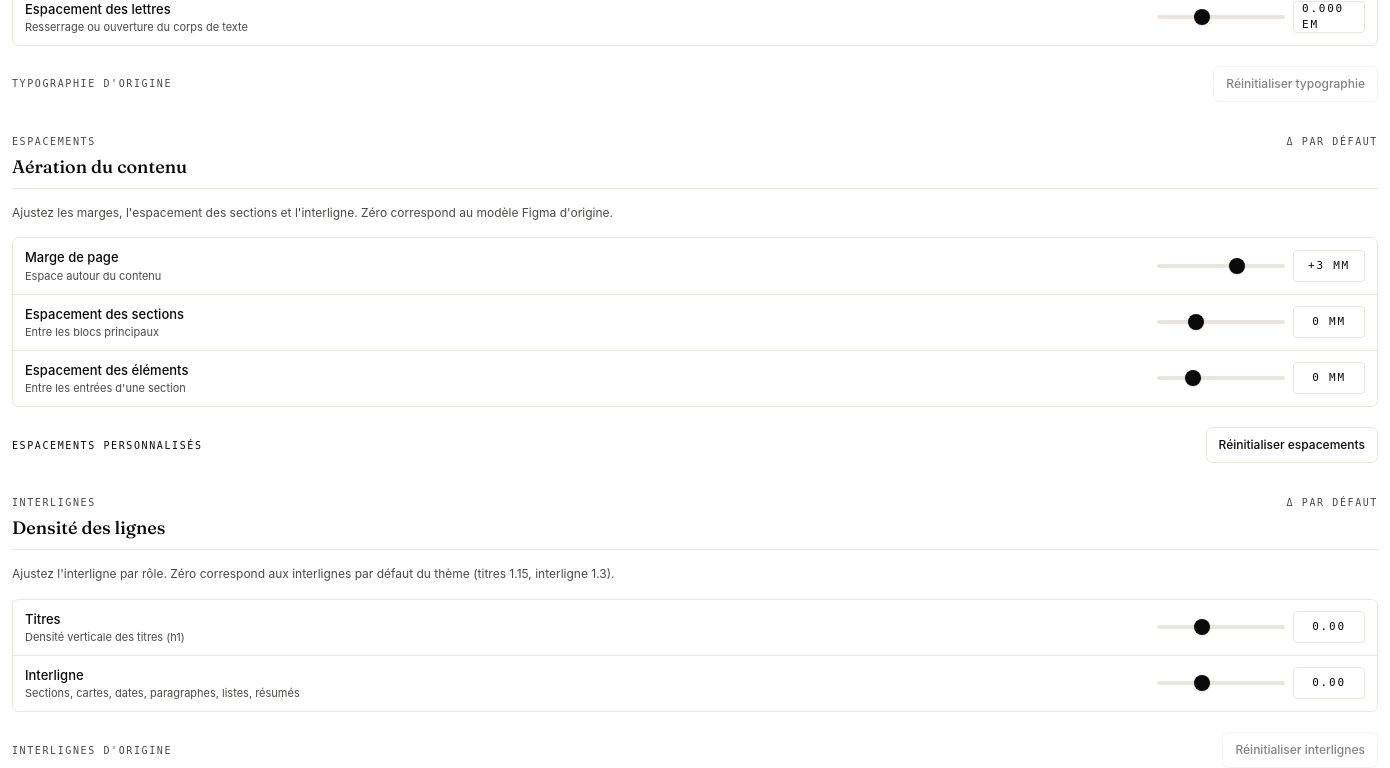
Scenario: DesignPanel — Espacements › reset button restores spacing defaults and disables itself
The width and height of the screenshot is (1390, 768).
(page scrolled)
Click the button "Réinitialiser espacements" at (1292, 445), box [1206,427,1378,463]
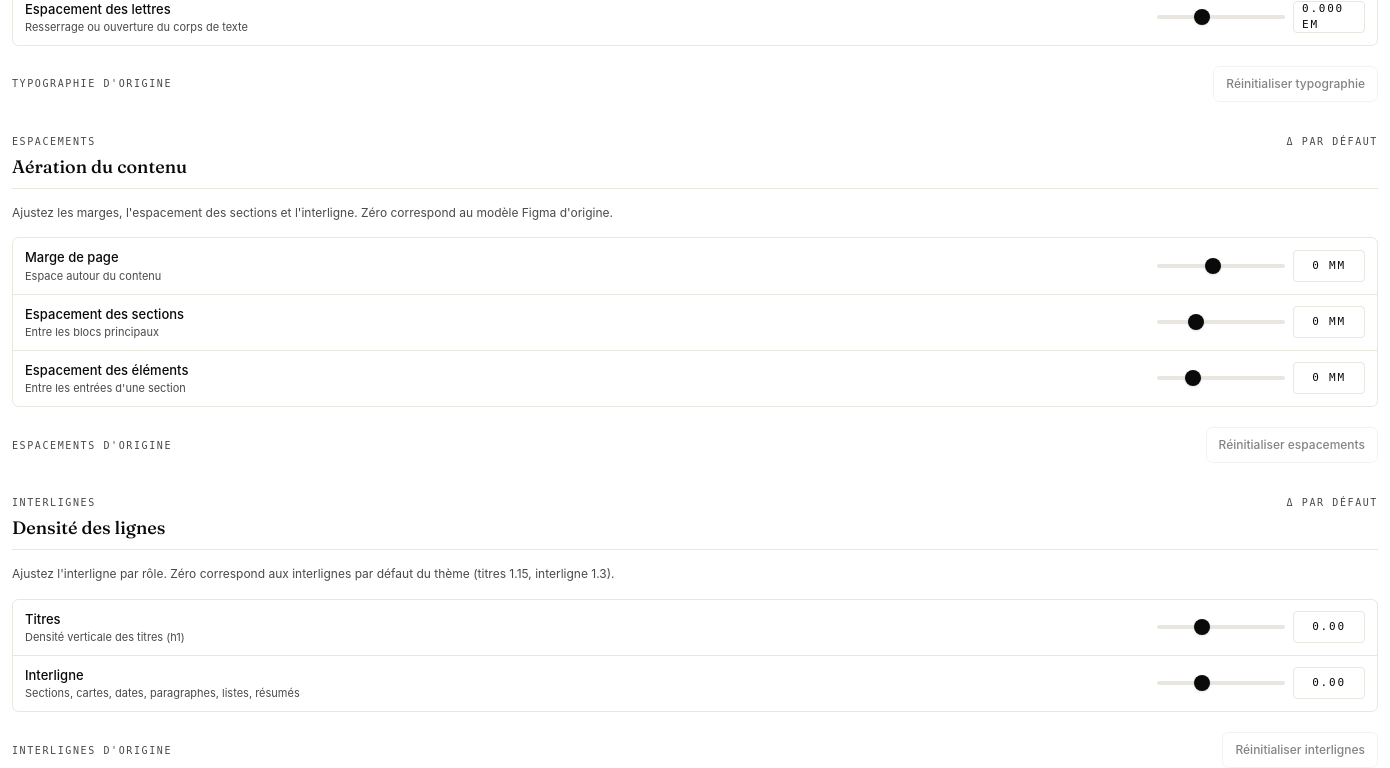
Check: the slider named "Espacement — Espacement des sections" holds "0", box [1157,320,1285,324]
Check: the button "Réinitialiser espacements" is disabled, box [1206,427,1378,463]
Check: the slider named "Espacement — Marge de page" holds "0", box [1157,264,1285,268]
